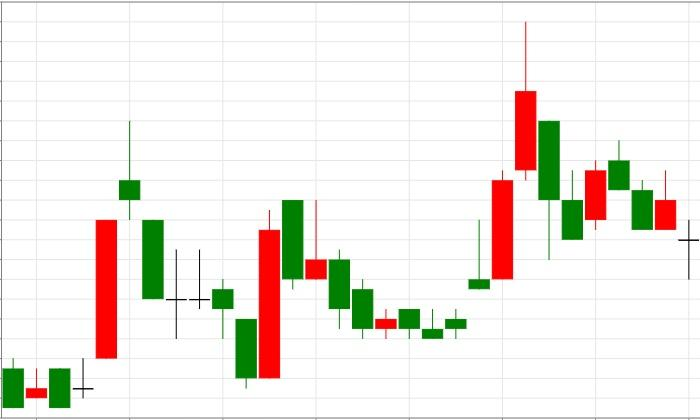bullish_engulfing_rise: (142, 208, 279, 389)
evening_star_fall: (2, 121, 163, 408)
